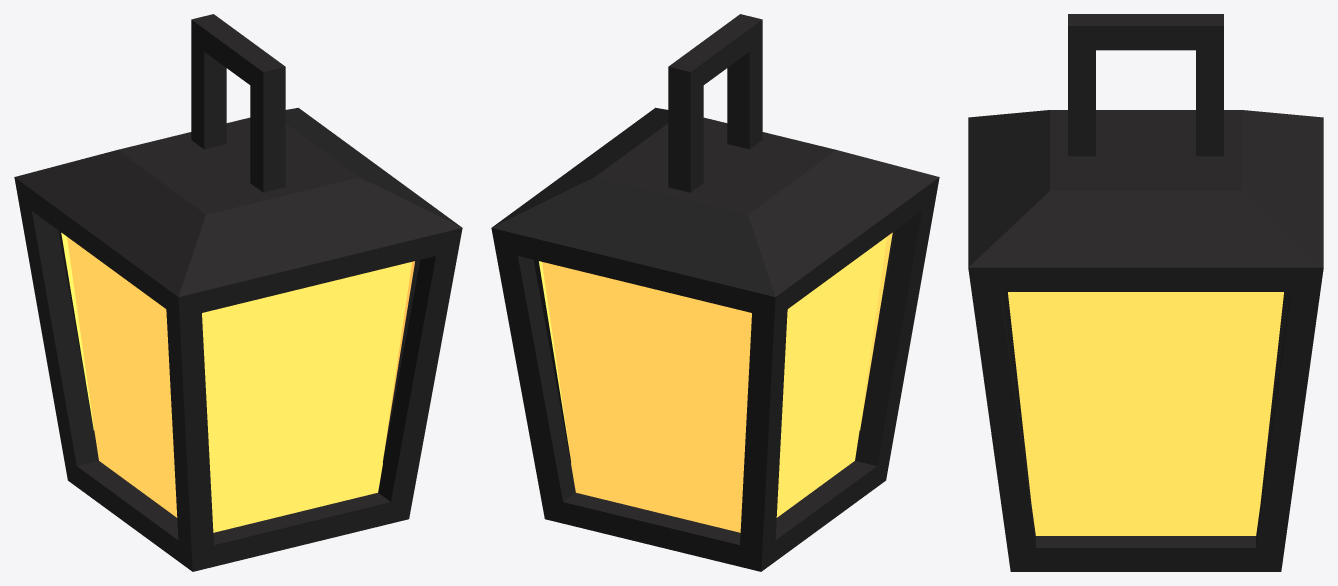
File: Lantern.fbx
The picture shows the model from 3 angles, left to right: view 1: azimuth 30°, elevation 25°; view 2: azimuth 150°, elevation 25°; view 3: azimuth 270°, elevation 25°; orthographic projection. The views are drawn at different scales.
Visible parts, largest first — view 1: Cube; view 2: Cube; view 3: Cube.
Boxes of the visible parts, bbox=[...] form: Cube: bbox=[14, 14, 462, 571]; Cube: bbox=[491, 14, 939, 571]; Cube: bbox=[968, 14, 1323, 571].
Size of the model in its own units: 200 by 307 by 200.
